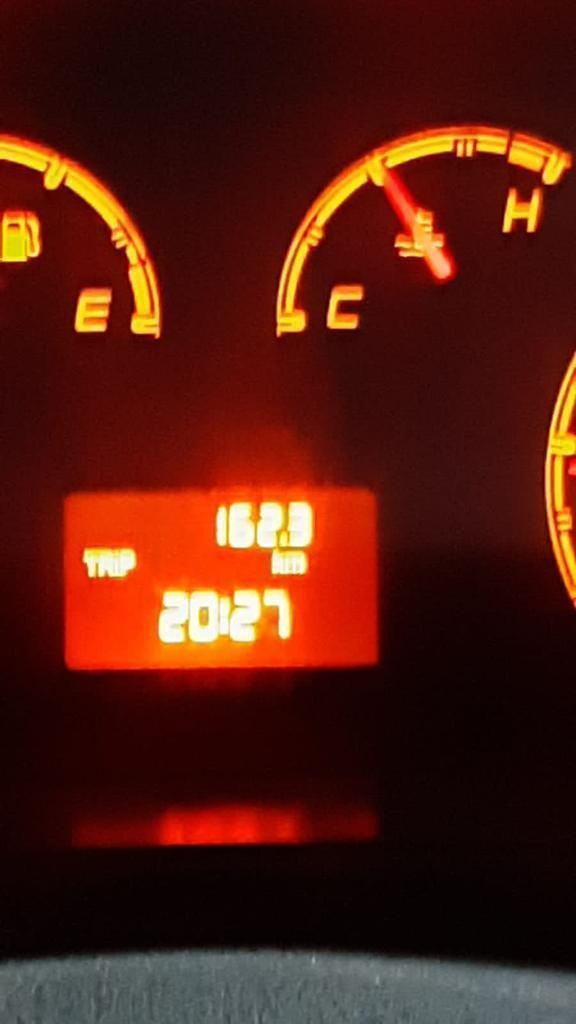,: (279, 531, 288, 548)
0: (187, 589, 219, 643)
1: (215, 504, 227, 547)
2: (156, 590, 188, 644), (229, 589, 260, 643), (256, 501, 283, 547)
3: (286, 500, 314, 548)
6: (228, 501, 254, 548)
7: (263, 587, 292, 640)
X: (283, 550, 307, 575), (217, 596, 231, 637), (118, 547, 137, 577), (82, 547, 99, 578), (98, 547, 113, 578), (270, 549, 284, 575)
odometer: (59, 485, 384, 673)
